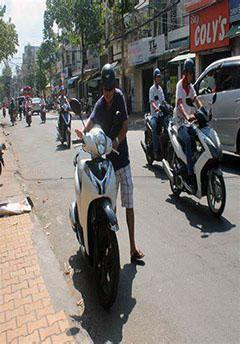motorcycle: (63, 96, 140, 315), (167, 89, 234, 222), (140, 92, 170, 165), (52, 106, 77, 152)
